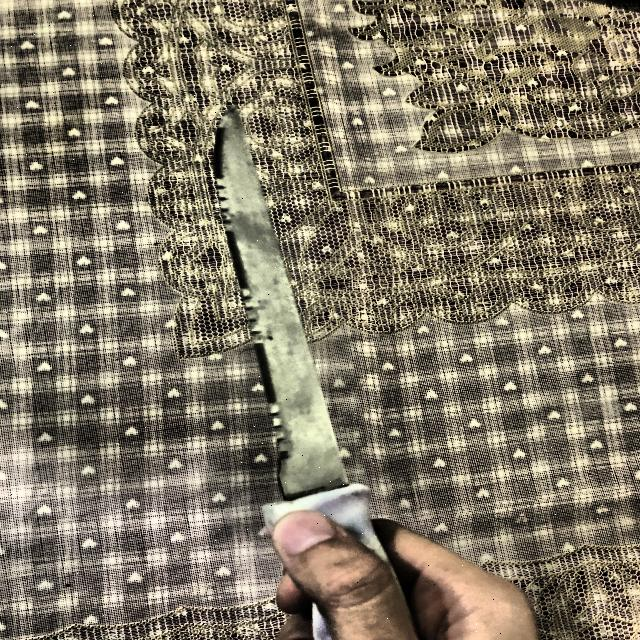knife: (210, 109, 397, 640)
